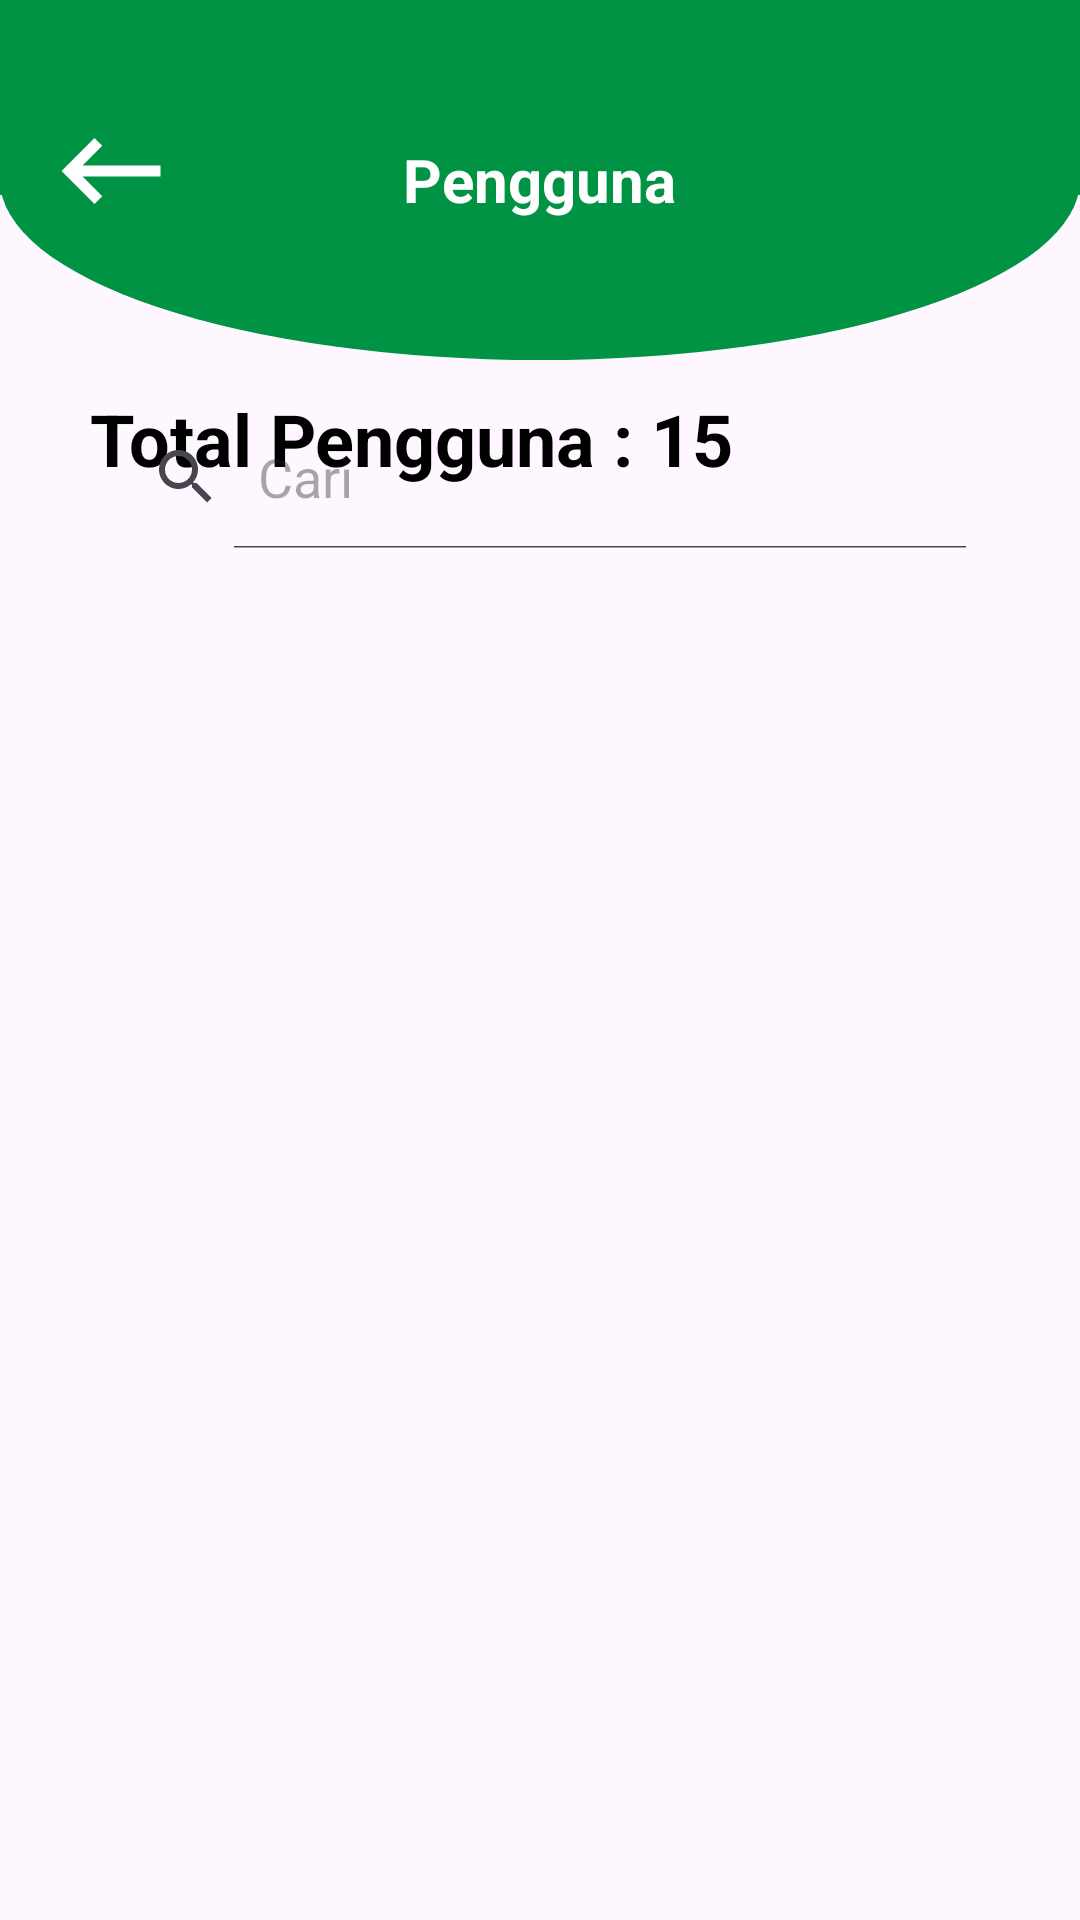

Named icons in this screenshot (1080w x 1920h) and their bounding boxes, (x1, y1, x2, y2):
keyboard backspace: (61, 138, 161, 204)
